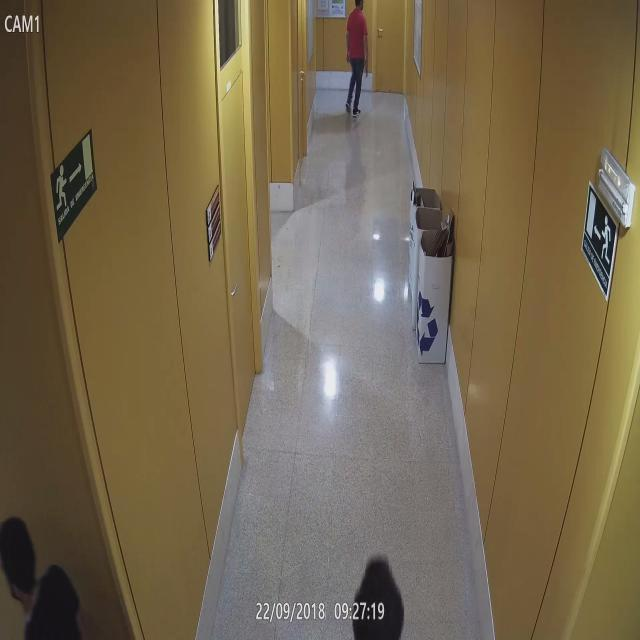weapon: (362, 54, 368, 78)
